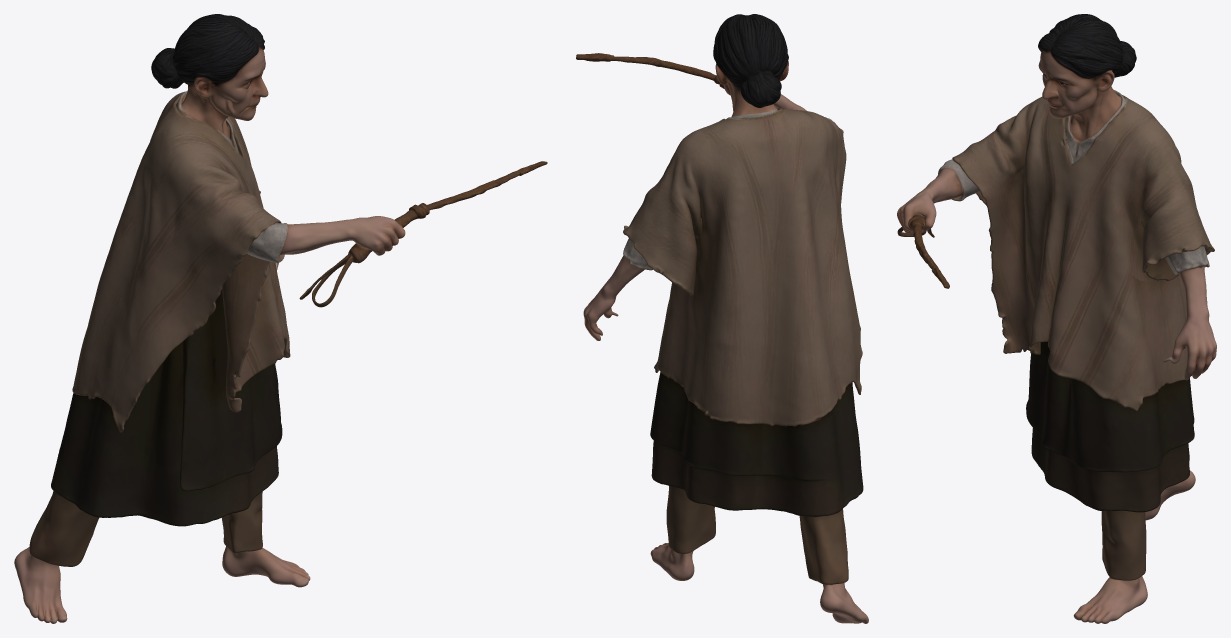
The model's file is 55-la-tela-roja-del-camino-de-bosavita-optimized.glb.
3 renders of one model, left to right at view 1: azimuth 30°, elevation 25°; view 2: azimuth 150°, elevation 25°; view 3: azimuth 270°, elevation 25°, orthographic. The views are drawn at different scales.
Parts seen in each view (by area): view 1: tripo_node_fb8977da-2928-4c75-a421-8975f4523a9e; view 2: tripo_node_fb8977da-2928-4c75-a421-8975f4523a9e; view 3: tripo_node_fb8977da-2928-4c75-a421-8975f4523a9e.
Part boxes in pixels (<box>): tripo_node_fb8977da-2928-4c75-a421-8975f4523a9e: <box>14,14,547,623</box>; tripo_node_fb8977da-2928-4c75-a421-8975f4523a9e: <box>576,14,868,623</box>; tripo_node_fb8977da-2928-4c75-a421-8975f4523a9e: <box>897,14,1216,623</box>.
Bounding box in the file's own units: 0.7355 × 1 × 0.5135.
Materials: 1 (1 with a texture image).
